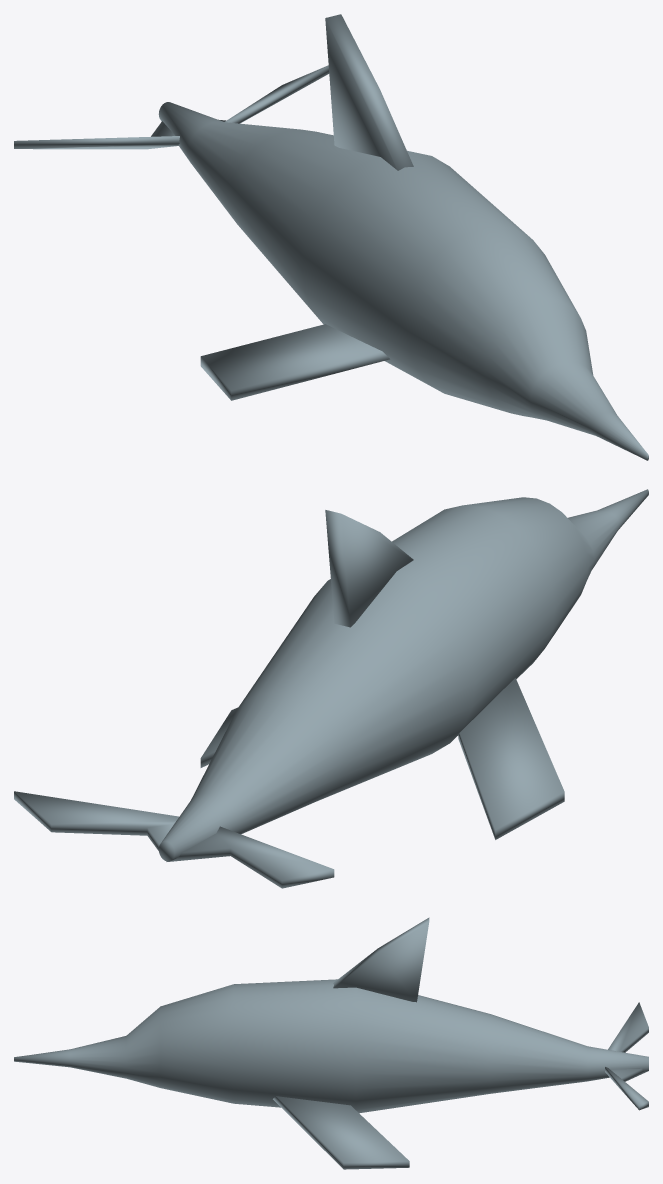
File: Dolphin_LOD0.glb
3 views of the same model, one above another, from view 1: azimuth 30°, elevation 25°; view 2: azimuth 150°, elevation 25°; view 3: azimuth 270°, elevation 25° (orthographic). The views are drawn at different scales.
Visible parts, largest first — view 1: Dolphin_LOD0; view 2: Dolphin_LOD0; view 3: Dolphin_LOD0.
Part boxes in pixels (bbox=[...]): Dolphin_LOD0: bbox=[14, 14, 648, 460]; Dolphin_LOD0: bbox=[14, 489, 648, 888]; Dolphin_LOD0: bbox=[14, 917, 648, 1169].
Bounding box in the file's own units: 1.04 × 0.905 × 2.6.
